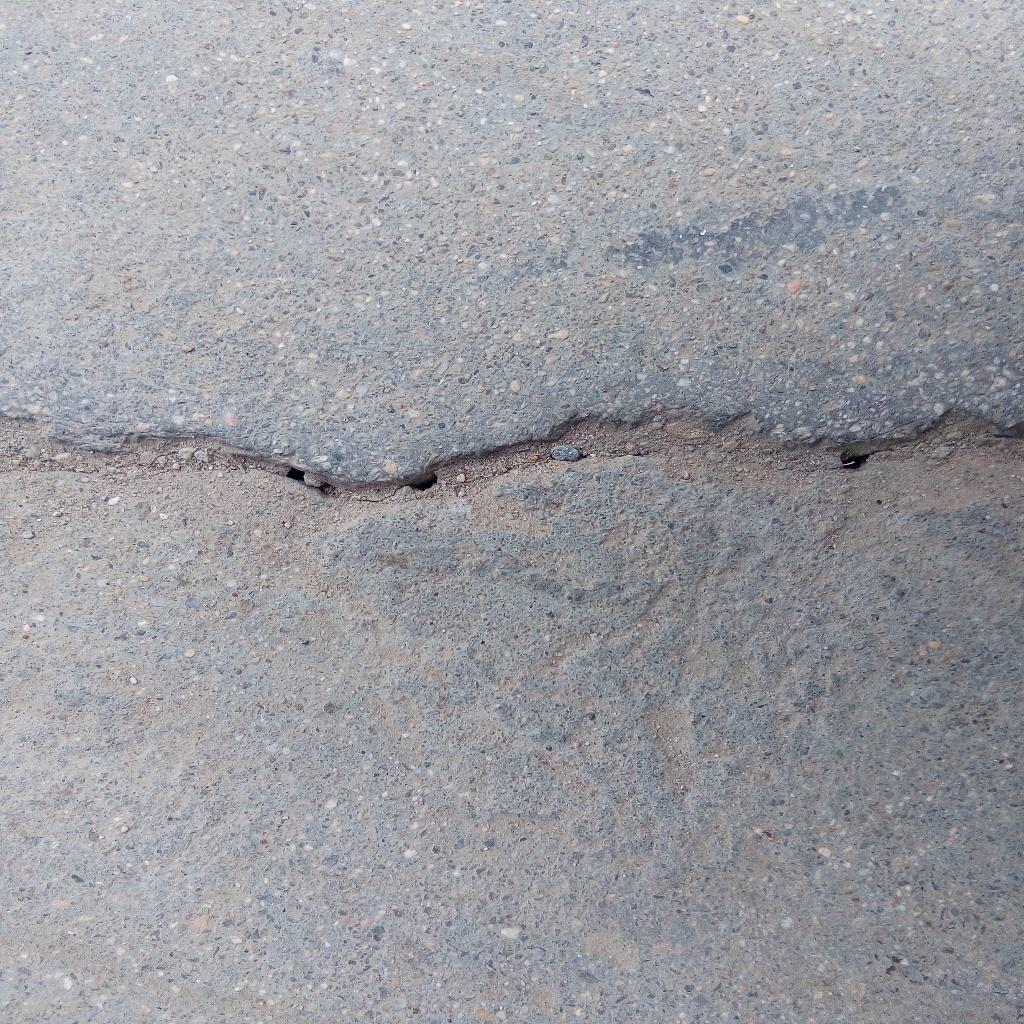Crack: (1, 398, 1024, 506)
